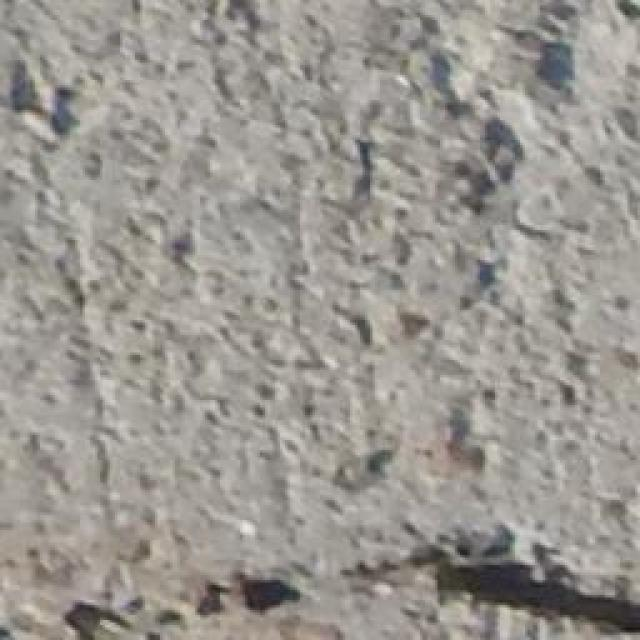concrete-crack: (332, 520, 640, 640), (57, 571, 311, 640)
